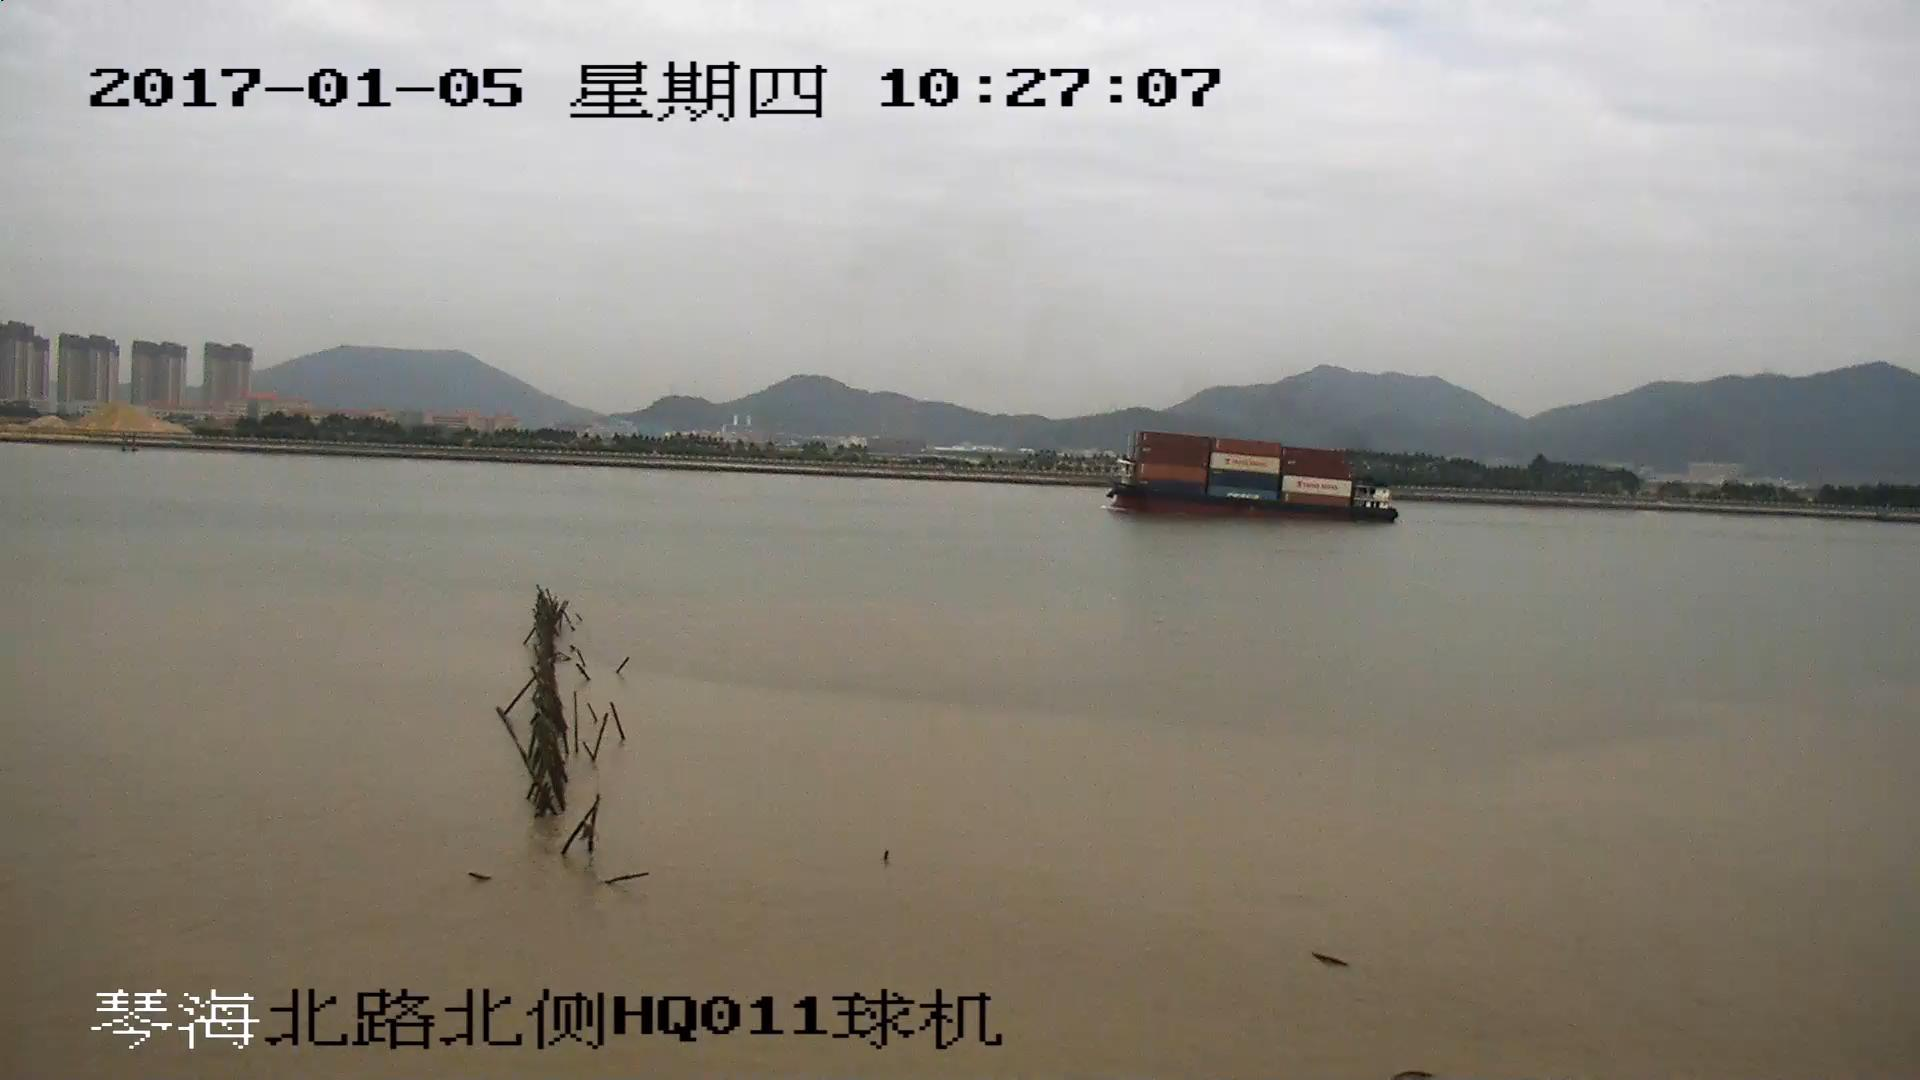Ship: (1106, 430, 1396, 524)
